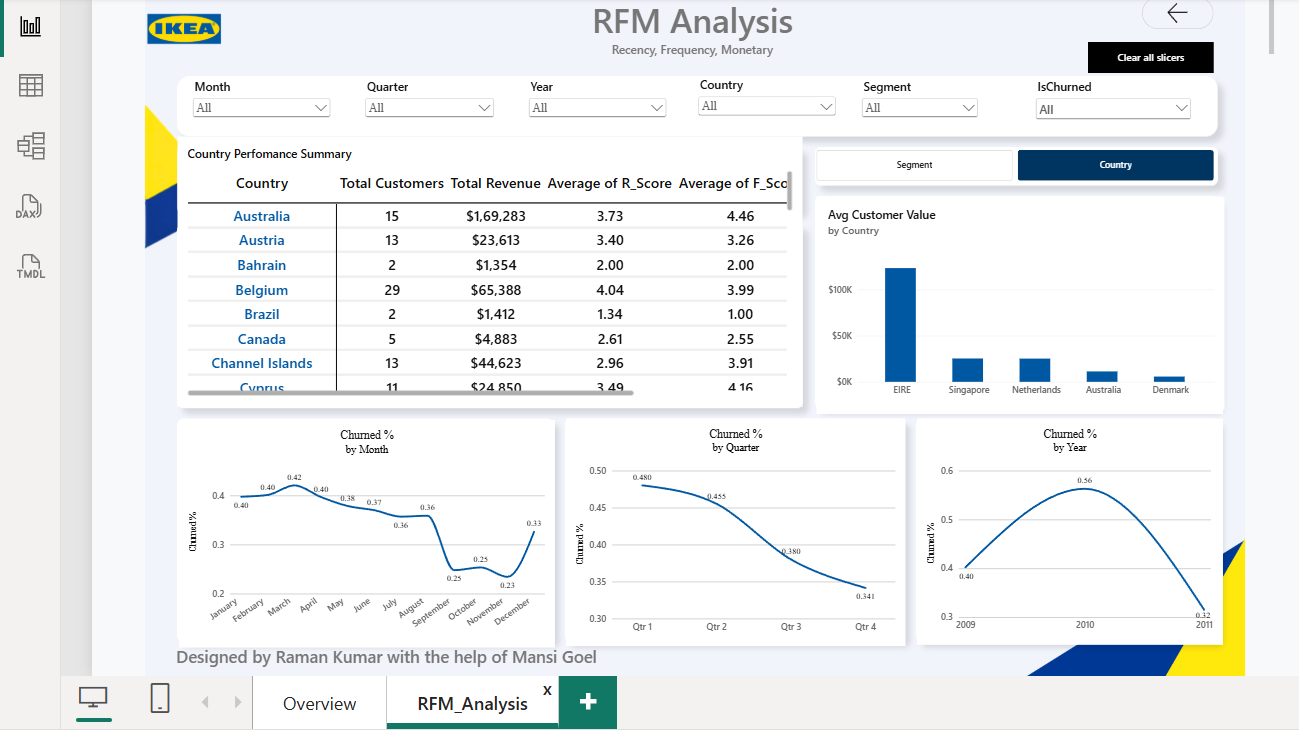

The dashboard page shown, as its layout file describes it:
{"tool":"powerbi","page":{"name":"RFM_Analysis","canvas":[1920,1080],"ordinal":1},"visuals":[{"type":"slicer","fields":{"Values":["Sheet1.Segment"]},"box":[1218.8,128.6,195.3,91.5],"z":0},{"type":"lineChart","fields":{"Category":["Sheet1.InvoiceDate.Variation.Date Hierarchy.Month"],"Y":["Sheet1.Churned %"]},"box":[137.8,673.3,597.8,362.2],"z":0,"group":"g1"},{"type":"slicer","fields":{"Values":["Sheet1.Country"]},"box":[959.2,126.1,229,90.7],"z":1000},{"type":"lineChart","fields":{"Category":["Sheet1.InvoiceDate.Variation.Date Hierarchy.Quarter"],"Y":["Sheet1.Churned %"]},"box":[753.4,671.1,540,362.2],"z":1000,"group":"g1"},{"type":"slicer","fields":{"Values":["Sheet1.InvoiceDate.Variation.Date Hierarchy.Year"]},"box":[689.7,128.6,229,90.7],"z":2000},{"type":"lineChart","fields":{"Category":["Sheet1.InvoiceDate.Variation.Date Hierarchy.Year"],"Y":["Sheet1.Churned %"]},"box":[1311.1,671.1,486.7,360],"z":2000,"group":"g1"},{"type":"slicer","fields":{"Values":["Sheet1.InvoiceDate.Variation.Date Hierarchy.Quarter"]},"box":[430.2,128.6,214.7,90.7],"z":3000},{"type":"slicer","fields":{"Values":["Sheet1.InvoiceDate.Variation.Date Hierarchy.Month"]},"box":[155.1,128.8,229,90.7],"z":4000},{"type":"group","id":"g1","title":"Customers","box":[137.8,671.1,1660,364.4],"z":5000},{"type":"slicer","fields":{"Values":["Sheet1.IsChurned"]},"box":[1495.6,128.6,257.1,93.9],"z":7000},{"type":"textbox","box":[39.1,0,1841.7,101.4],"z":8000},{"type":"image","box":[39.6,0,212.6,101.4],"z":9000},{"type":"textbox","box":[126.1,1030.9,719.4,49.4],"z":10000},{"type":"actionButton","box":[1671.2,0,113.7,51],"z":11000},{"type":"actionButton","box":[1584.6,71.7,200.2,49.4],"z":12000},{"type":"bookmarkNavigator","box":[1152,242.3,632.9,49.4],"z":13000},{"type":"pivotTable","title":"Country Perfomance Summary","fields":{"Rows":["Sheet1.Country"],"Values":["Sheet1.Total Customers","Sheet1.Total Revenue","Avg(Sheet1.R_Score)","Avg(Sheet1.F_Score)","Avg(Sheet1.M_Score)"]},"box":[136,222.5,994.3,428.6],"z":15000},{"type":"columnChart","fields":{"Category":["Sheet1.Segment"],"Y":["Sheet1.Avg Customer Value"]},"box":[1152.4,317.3,646.6,346],"z":16000},{"type":"columnChart","fields":{"Category":["Sheet1.Country"],"Y":["Sheet1.Avg Customer Value"]},"box":[1153.8,319.7,646.6,336.4],"z":17001}]}

Visuals, with their boxes on the page's 1920x1080 design canvas (x1, y1, x2, y2). These are canvas units, not pixel positions in the 1299x730 screenshot, which may show the page scaled, cropped or inside an application window:
slicer - Sheet1.Segment: BBox(1219, 129, 1414, 220)
lineChart - Sheet1.InvoiceDate.Variation.Date Hierarchy.Month x Sheet1.Churned %: BBox(138, 673, 736, 1036)
slicer - Sheet1.Country: BBox(959, 126, 1188, 217)
lineChart - Sheet1.InvoiceDate.Variation.Date Hierarchy.Quarter x Sheet1.Churned %: BBox(753, 671, 1293, 1033)
slicer - Sheet1.InvoiceDate.Variation.Date Hierarchy.Year: BBox(690, 129, 919, 219)
lineChart - Sheet1.InvoiceDate.Variation.Date Hierarchy.Year x Sheet1.Churned %: BBox(1311, 671, 1798, 1031)
slicer - Sheet1.InvoiceDate.Variation.Date Hierarchy.Quarter: BBox(430, 129, 645, 219)
slicer - Sheet1.InvoiceDate.Variation.Date Hierarchy.Month: BBox(155, 129, 384, 220)
"Customers" group: BBox(138, 671, 1798, 1036)
slicer - Sheet1.IsChurned: BBox(1496, 129, 1753, 222)
textbox: BBox(39, 0, 1881, 101)
image: BBox(40, 0, 252, 101)
textbox: BBox(126, 1031, 846, 1080)
actionButton: BBox(1671, 0, 1785, 51)
actionButton: BBox(1585, 72, 1785, 121)
bookmarkNavigator: BBox(1152, 242, 1785, 292)
"Country Perfomance Summary" pivotTable: BBox(136, 222, 1130, 651)
columnChart - Sheet1.Segment x Sheet1.Avg Customer Value: BBox(1152, 317, 1799, 663)
columnChart - Sheet1.Country x Sheet1.Avg Customer Value: BBox(1154, 320, 1800, 656)
